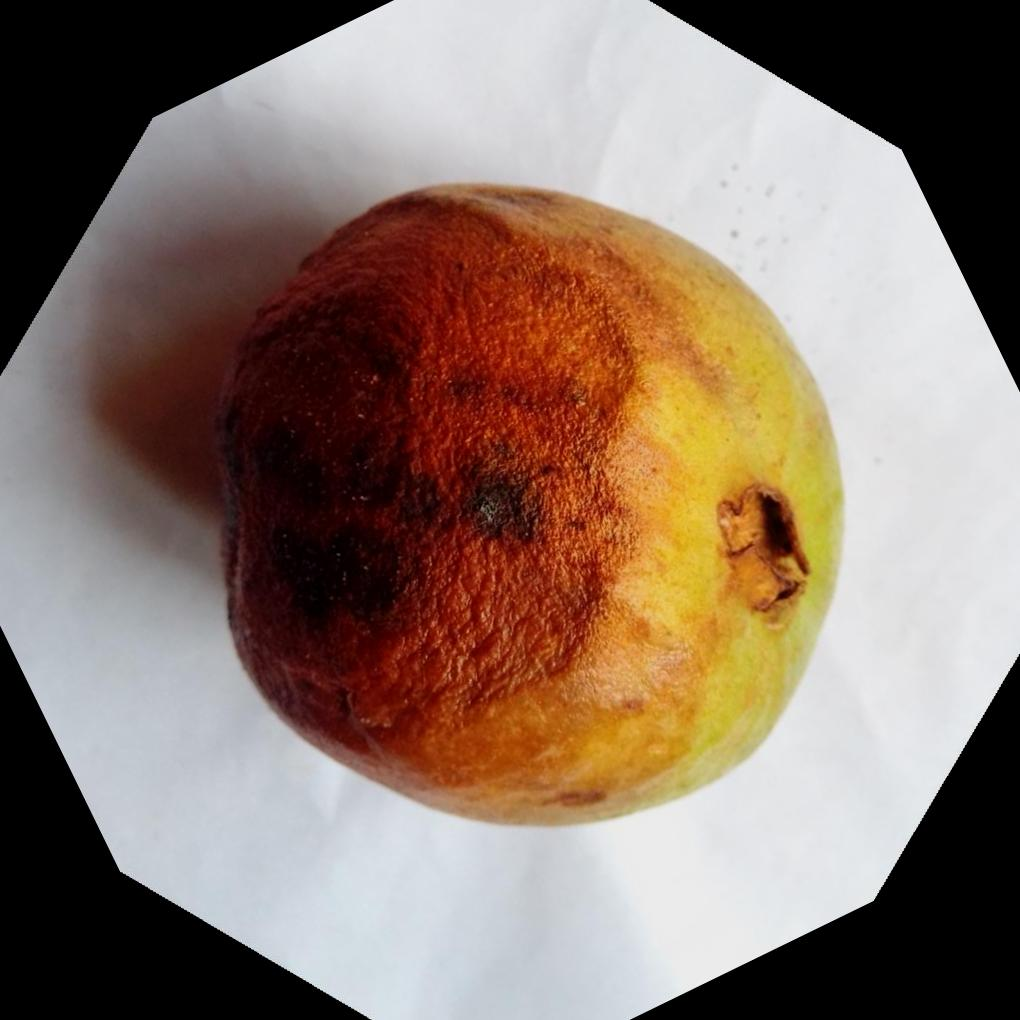FreshOrange: (204, 181, 843, 832)
